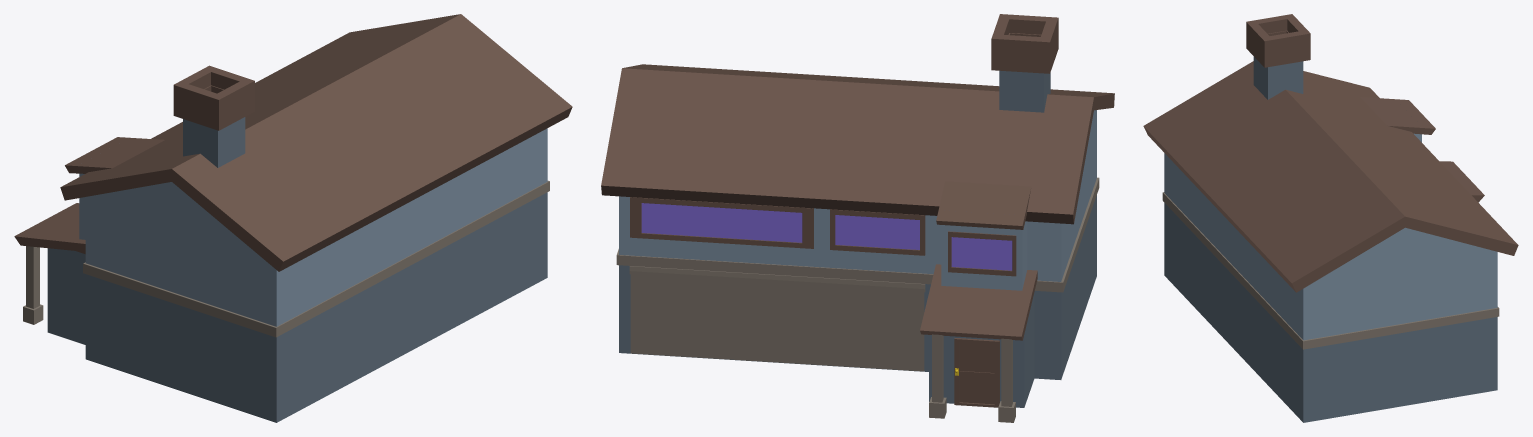
The model's file is CALLE6_CASA2_025.fbx.
3 renders of one model, left to right at view 1: azimuth 30°, elevation 25°; view 2: azimuth 150°, elevation 25°; view 3: azimuth 270°, elevation 25°, orthographic. The views are drawn at different scales.
Visible parts, largest first — view 1: CASA2.025; view 2: CASA2.025; view 3: CASA2.025.
Part boxes in pixels (x1=…): CASA2.025: x1=14, y1=14, x2=572, y2=422; CASA2.025: x1=601, y1=14, x2=1114, y2=422; CASA2.025: x1=1143, y1=14, x2=1518, y2=422.
Bounding box in the file's own units: 1144 × 680 × 927.
